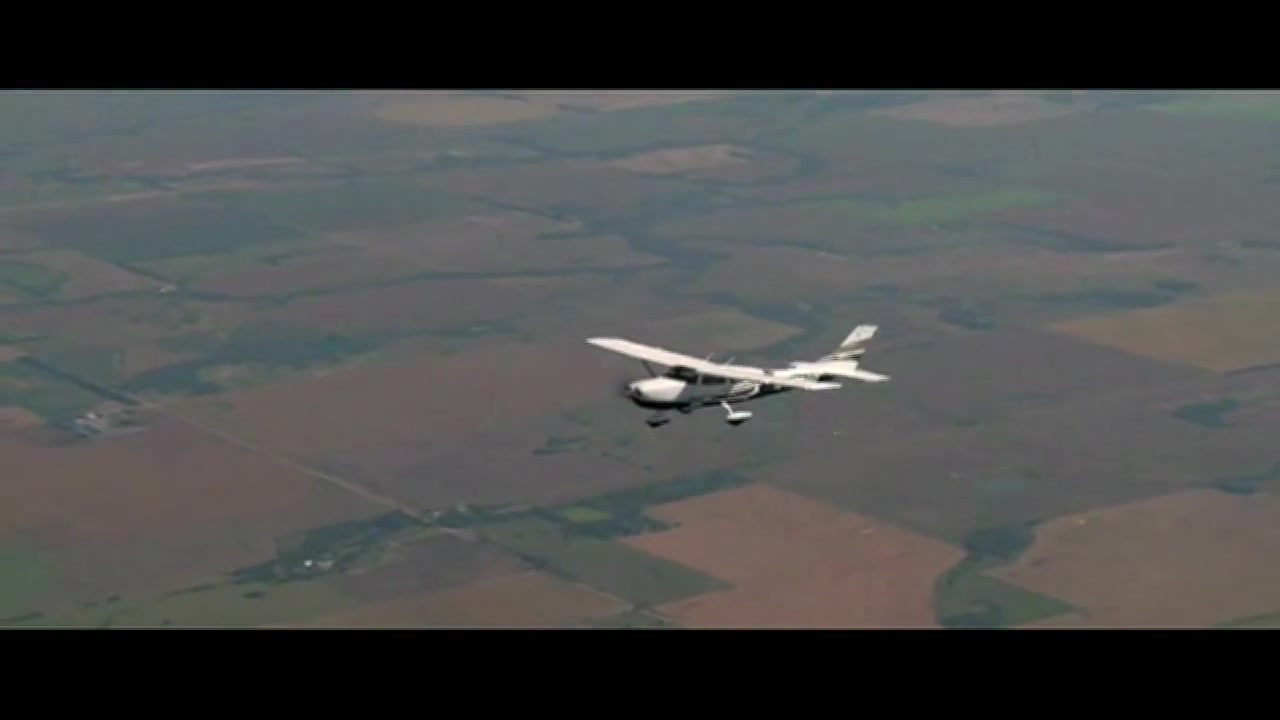aeroplane: (585, 324, 892, 429)
